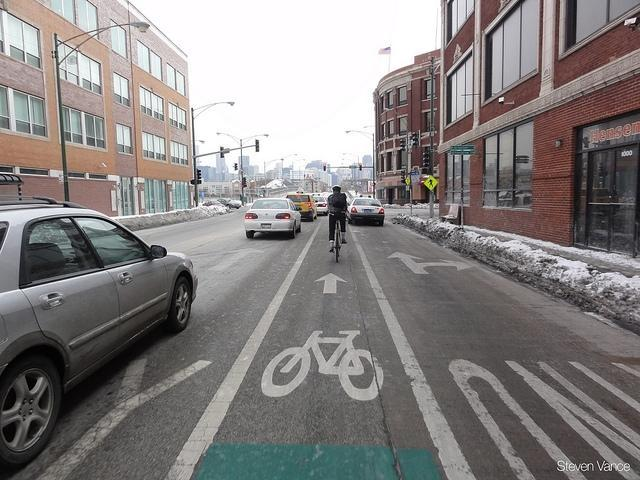bicycle: (332, 219, 342, 263)
car: (0, 194, 200, 465), (246, 198, 304, 240), (349, 198, 384, 224), (286, 194, 318, 222), (311, 196, 328, 216), (216, 198, 242, 209), (200, 200, 222, 206)
